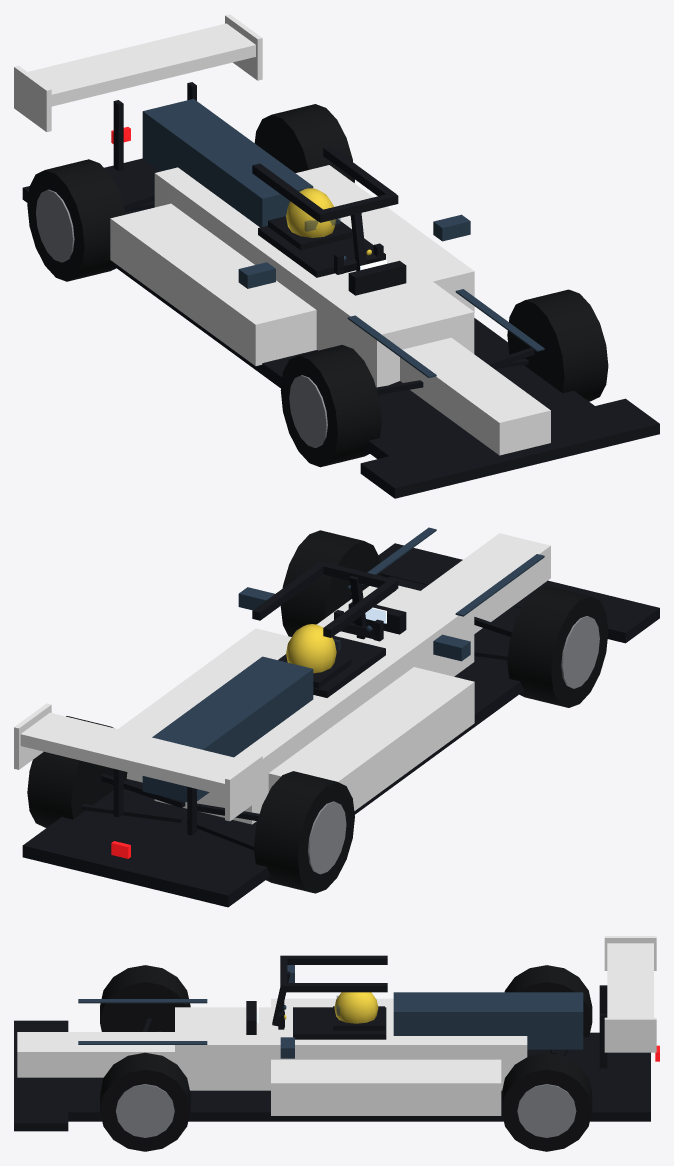
The model's file is super-formula.glb.
3 views of the same model, one above another, from view 1: azimuth 30°, elevation 25°; view 2: azimuth 150°, elevation 25°; view 3: azimuth 270°, elevation 25° (orthographic). The views are drawn at different scales.
Visible parts, largest first — view 1: survival-cell, sidepod-left, front-wing, engine-cover, floor, nose, rear-wing, tyre-1-1, tyre--1-1, tyre--1--1, sidepod-right, tyre-1--1 (+16 smaller); view 2: floor, sidepod-left, survival-cell, engine-cover, rear-wing, tyre--1--1, tyre--1-1, nose, tyre-1-1, sidepod-right, tyre-1--1, front-wing (+16 smaller); view 3: survival-cell, sidepod-right, floor, engine-cover, nose, tyre-1--1, tyre-1-1, tyre--1-1, front-wing, rear-wing, rim-1--1, rim-1-1 (+14 smaller).
Boxes of the visible parts, box(x1,y1,x2,y2) form: survival-cell: box(154, 167, 474, 387); sidepod-left: box(110, 203, 316, 365); front-wing: box(360, 398, 659, 498); engine-cover: box(142, 99, 313, 227); floor: box(22, 158, 594, 458); nose: box(400, 337, 550, 455); rear-wing: box(28, 23, 255, 106); tyre-1-1: box(507, 289, 608, 401); tyre--1-1: box(280, 345, 381, 467); tyre--1--1: box(27, 159, 125, 281); sidepod-right: box(295, 165, 474, 312); tyre-1--1: box(254, 104, 354, 182); floor: box(22, 576, 524, 907); sidepod-left: box(268, 667, 474, 810); survival-cell: box(154, 585, 474, 824); engine-cover: box(142, 656, 313, 802); rear-wing: box(20, 712, 248, 795); tyre--1--1: box(254, 771, 354, 893); tyre--1-1: box(507, 585, 608, 707); nose: box(421, 533, 550, 633); tyre-1-1: box(280, 530, 381, 636); sidepod-right: box(118, 628, 291, 782); tyre-1--1: box(27, 716, 127, 827); front-wing: box(378, 543, 659, 643); survival-cell: box(175, 1007, 527, 1090); sidepod-right: box(271, 1059, 501, 1115); floor: box(68, 1032, 650, 1121); engine-cover: box(393, 992, 583, 1049); nose: box(17, 1032, 174, 1077); tyre-1--1: box(501, 1052, 592, 1151); tyre-1-1: box(100, 1052, 190, 1151); tyre--1-1: box(100, 965, 190, 1031); front-wing: box(14, 1020, 68, 1131); rear-wing: box(607, 943, 653, 1017); rim-1--1: box(517, 1084, 576, 1137); rim-1-1: box(116, 1084, 174, 1137).
Size of the model in its own units: 1.93 by 1.1 by 4.99.
